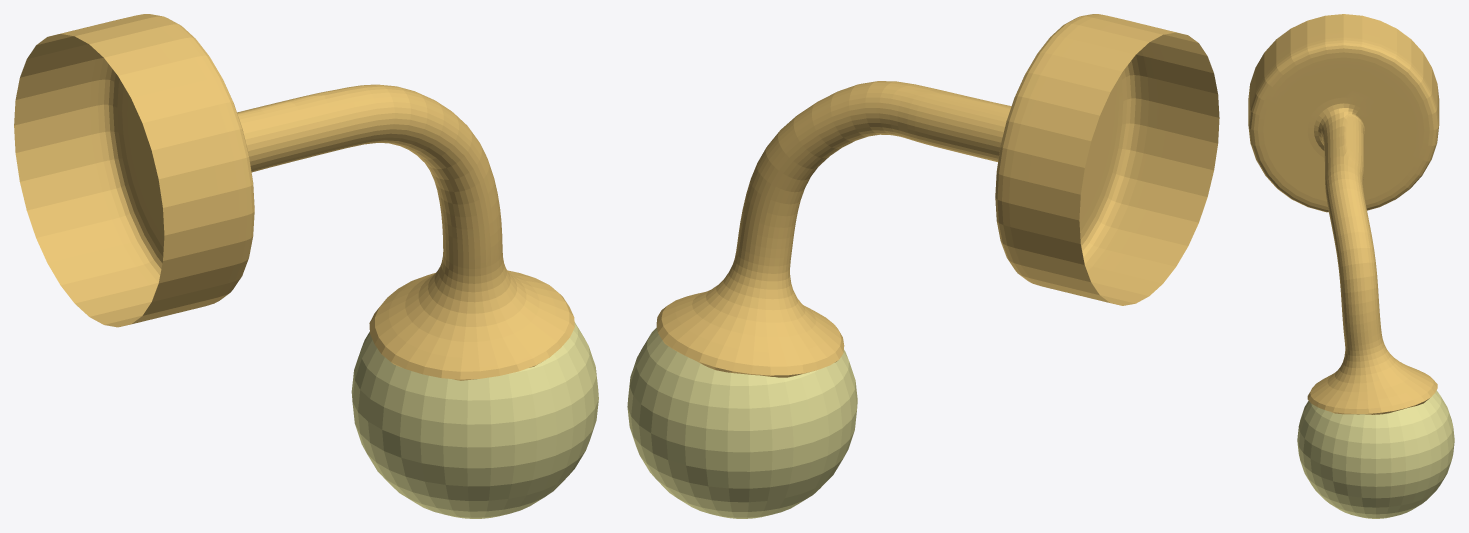
The model's file is Lamp1.fbx.
The picture shows the model from 3 angles, left to right: view 1: azimuth 30°, elevation 25°; view 2: azimuth 150°, elevation 25°; view 3: azimuth 270°, elevation 25°; orthographic projection. The views are drawn at different scales.
Visible parts, largest first — view 1: Lamp; view 2: Lamp; view 3: Lamp.
Part boxes in pixels (x1,y1,x2,y2): Lamp: (14,14,598,518); Lamp: (627,14,1219,518); Lamp: (1248,14,1454,518).
Size of the model in its own units: 53.9 by 57.8 by 29.25.
